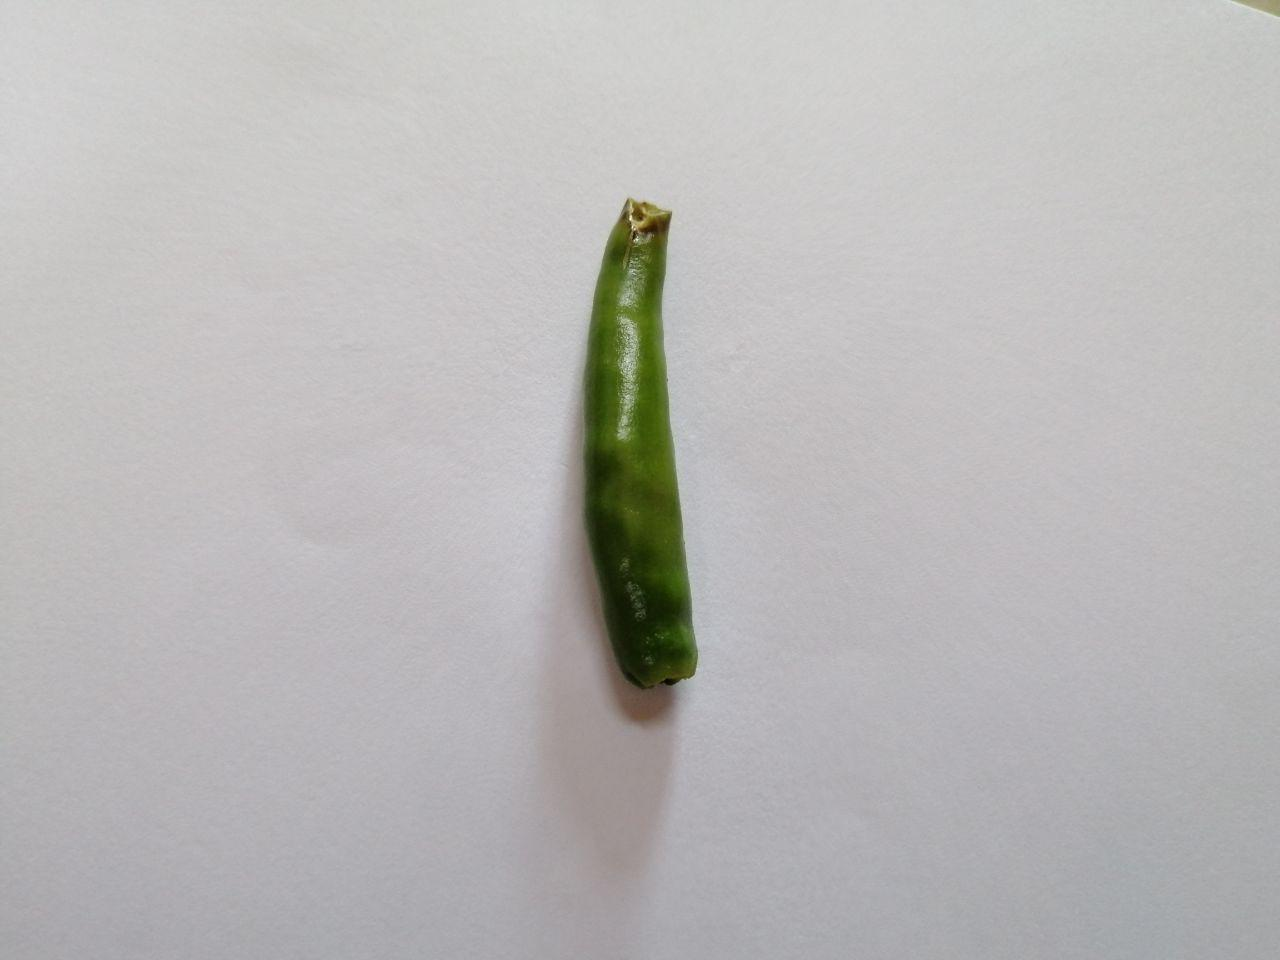lada hijau: (546, 186, 722, 719)
